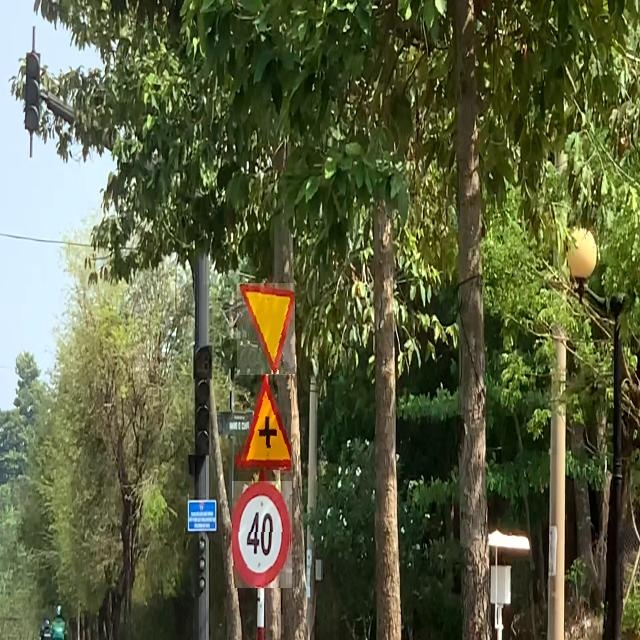bien_cam: (232, 481, 292, 588), (237, 284, 295, 376), (235, 379, 291, 472)
